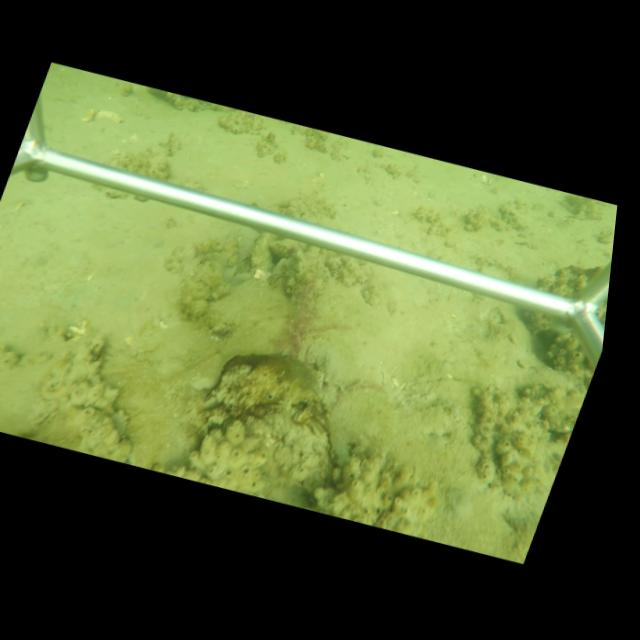Oyster-Closed: (242, 231, 269, 272)
